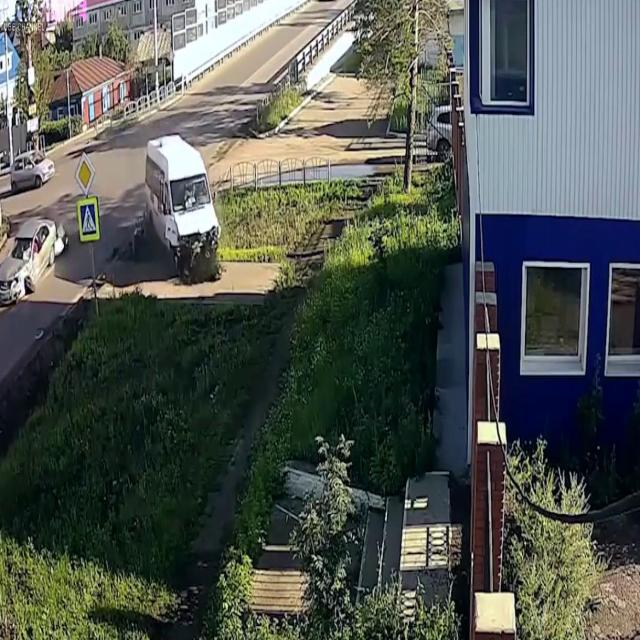accident: (140, 117, 224, 295), (0, 199, 69, 312)
